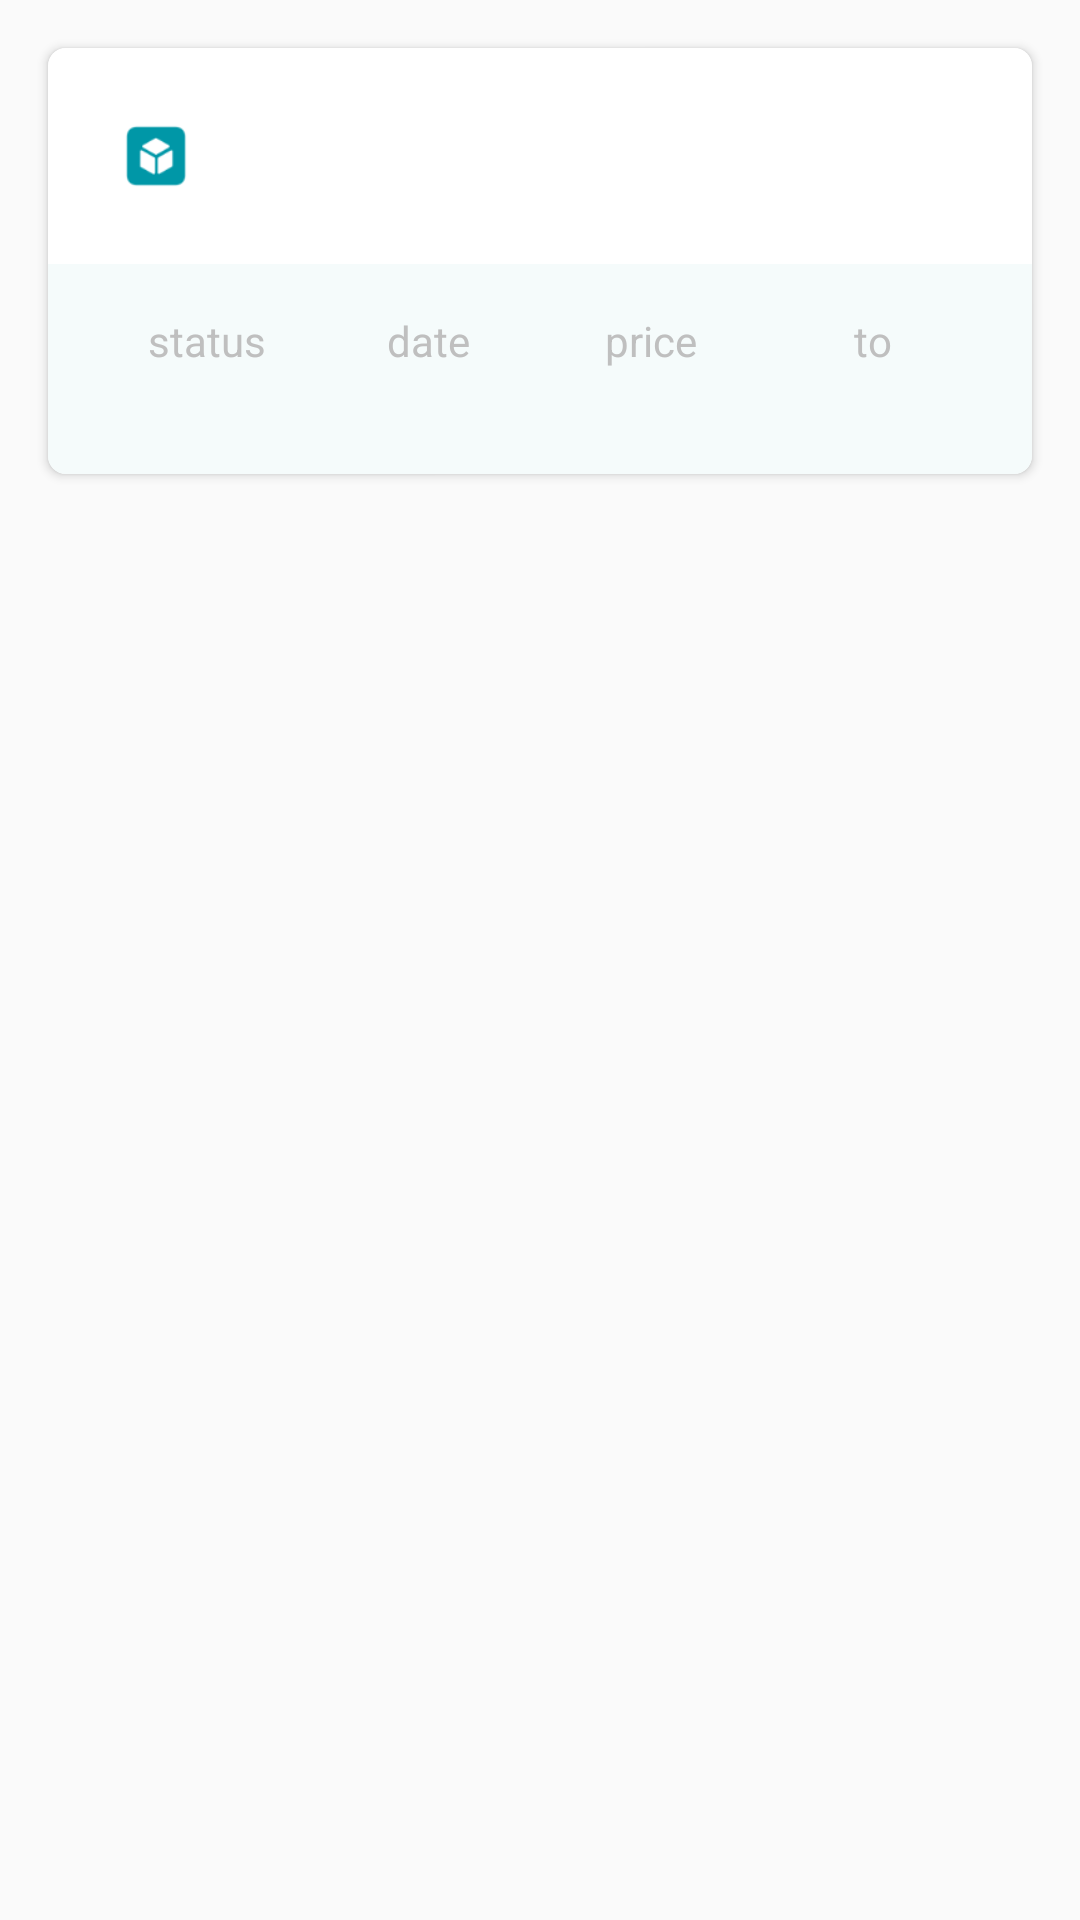

Icon click points for this 1080 × 1920 phone screenshot, format [x,y]:
box: [156,156]
